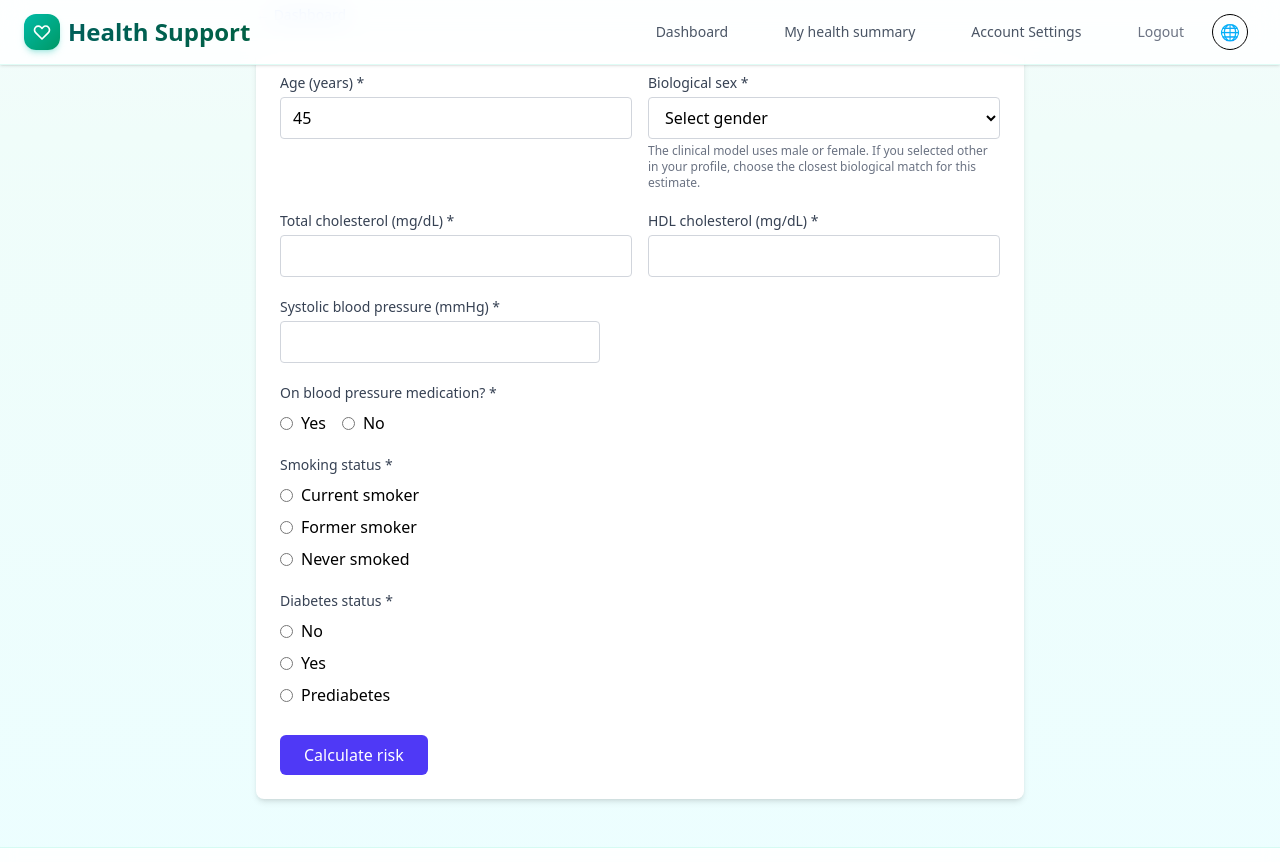
Test: FraminghamRisk › shows validation message when submitting an empty form
This screenshot has width=1280, height=862.
(page scrolled)
Click the button "Calculate risk". click: x=354, y=755
box: [280,735,428,775]
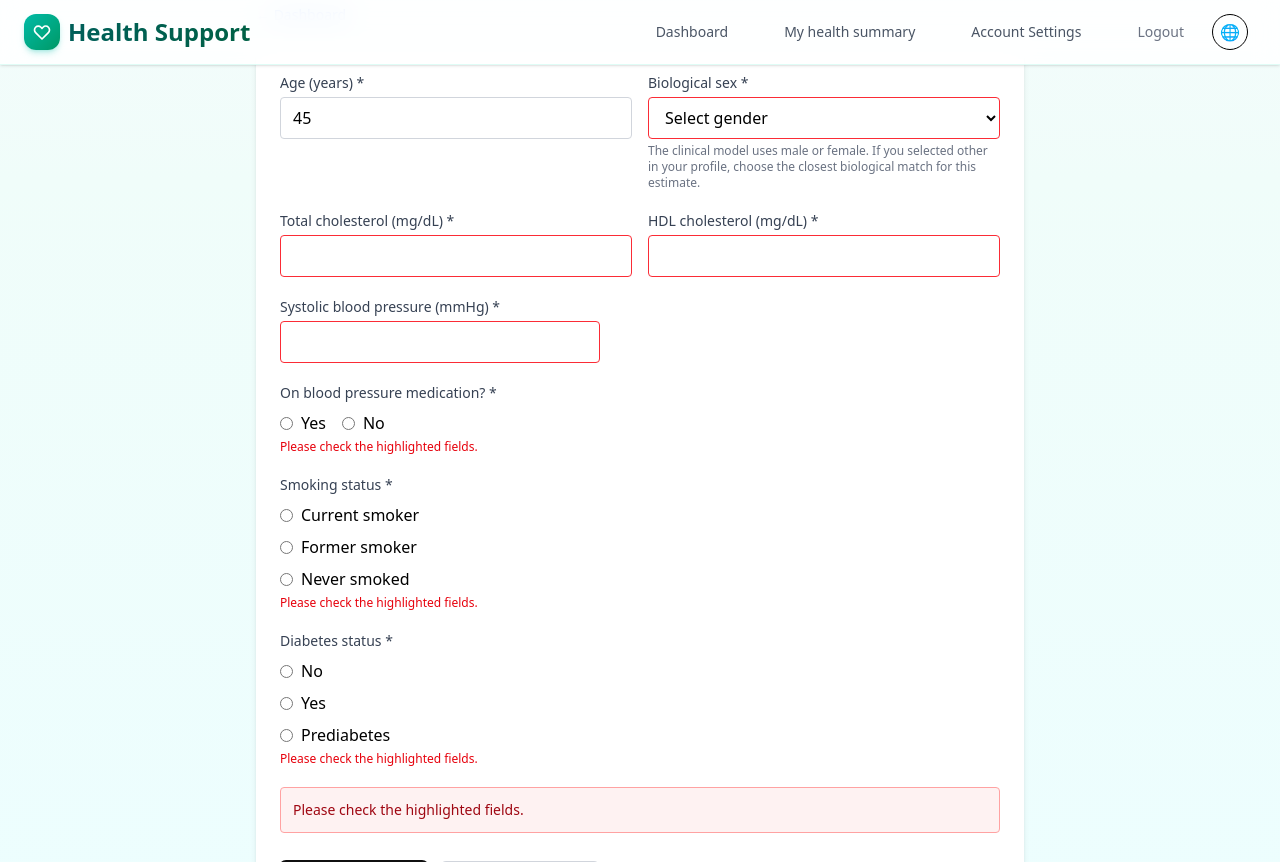
Now the text "Please check the highlighted fields." below "On blood pressure medication?" is shown, box [280,438,478,455]
